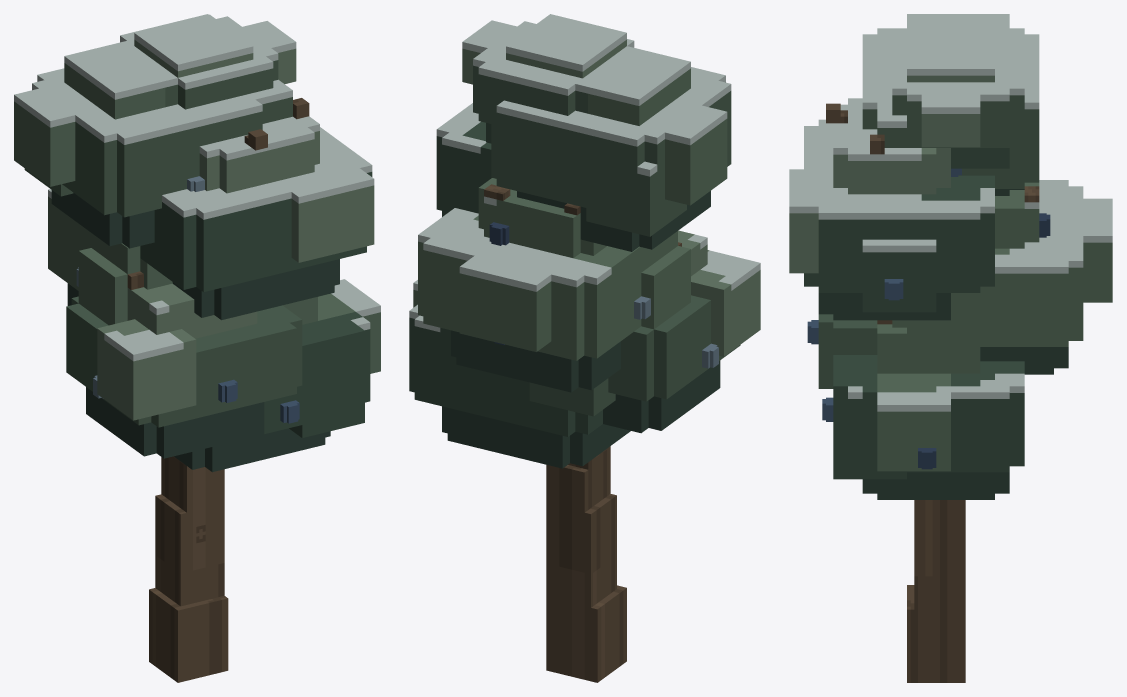
Rendered from juniper_mature_winter.glb.
The picture shows the model from 3 angles, left to right: view 1: azimuth 30°, elevation 25°; view 2: azimuth 150°, elevation 25°; view 3: azimuth 270°, elevation 25°; orthographic projection.
Visible parts, largest first — view 1: VoxelVisual; view 2: VoxelVisual; view 3: VoxelVisual.
Boxes of the visible parts, x1=… form: VoxelVisual: x1=14, y1=14, x2=380, y2=682; VoxelVisual: x1=409, y1=14, x2=760, y2=682; VoxelVisual: x1=789, y1=14, x2=1112, y2=682.
Size of what is drawn, in the model's own units: 6.19 by 11.75 by 5.5.
